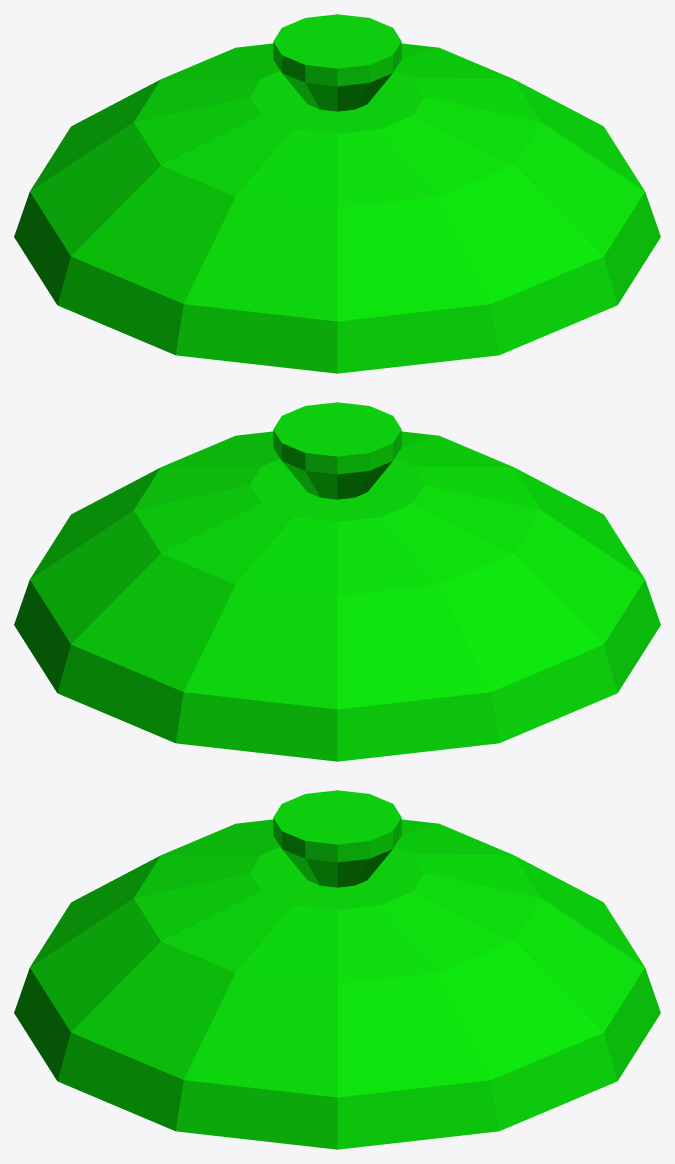
The model's file is c_pipecover.fbx.
The picture shows the model from 3 angles, top to bottom: view 1: azimuth 30°, elevation 25°; view 2: azimuth 150°, elevation 25°; view 3: azimuth 270°, elevation 25°; orthographic projection.
Visible parts, largest first — view 1: coll_pipecover; view 2: coll_pipecover; view 3: coll_pipecover.
Boxes of the visible parts, <box> form: coll_pipecover: <box>14,14,660,373</box>; coll_pipecover: <box>14,402,660,761</box>; coll_pipecover: <box>14,790,660,1149</box>.
Size of the model in its own units: 600 by 200 by 600.
